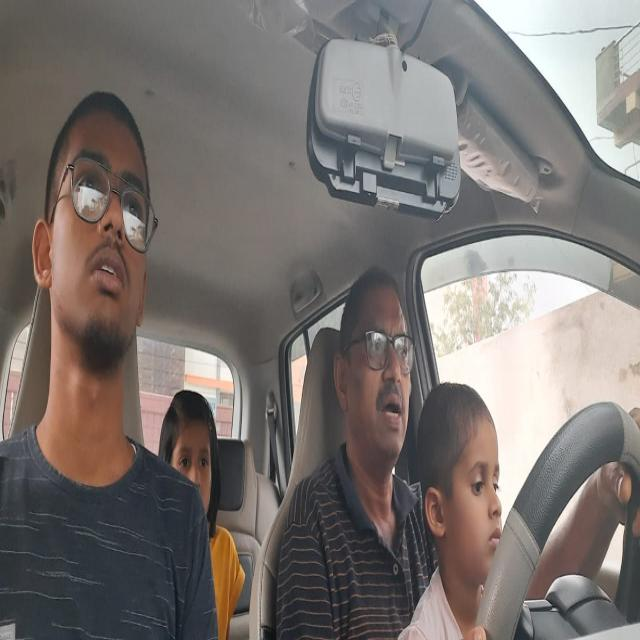child: (417, 383, 503, 571)
person: (39, 93, 152, 363), (336, 272, 415, 464), (166, 384, 217, 506)
